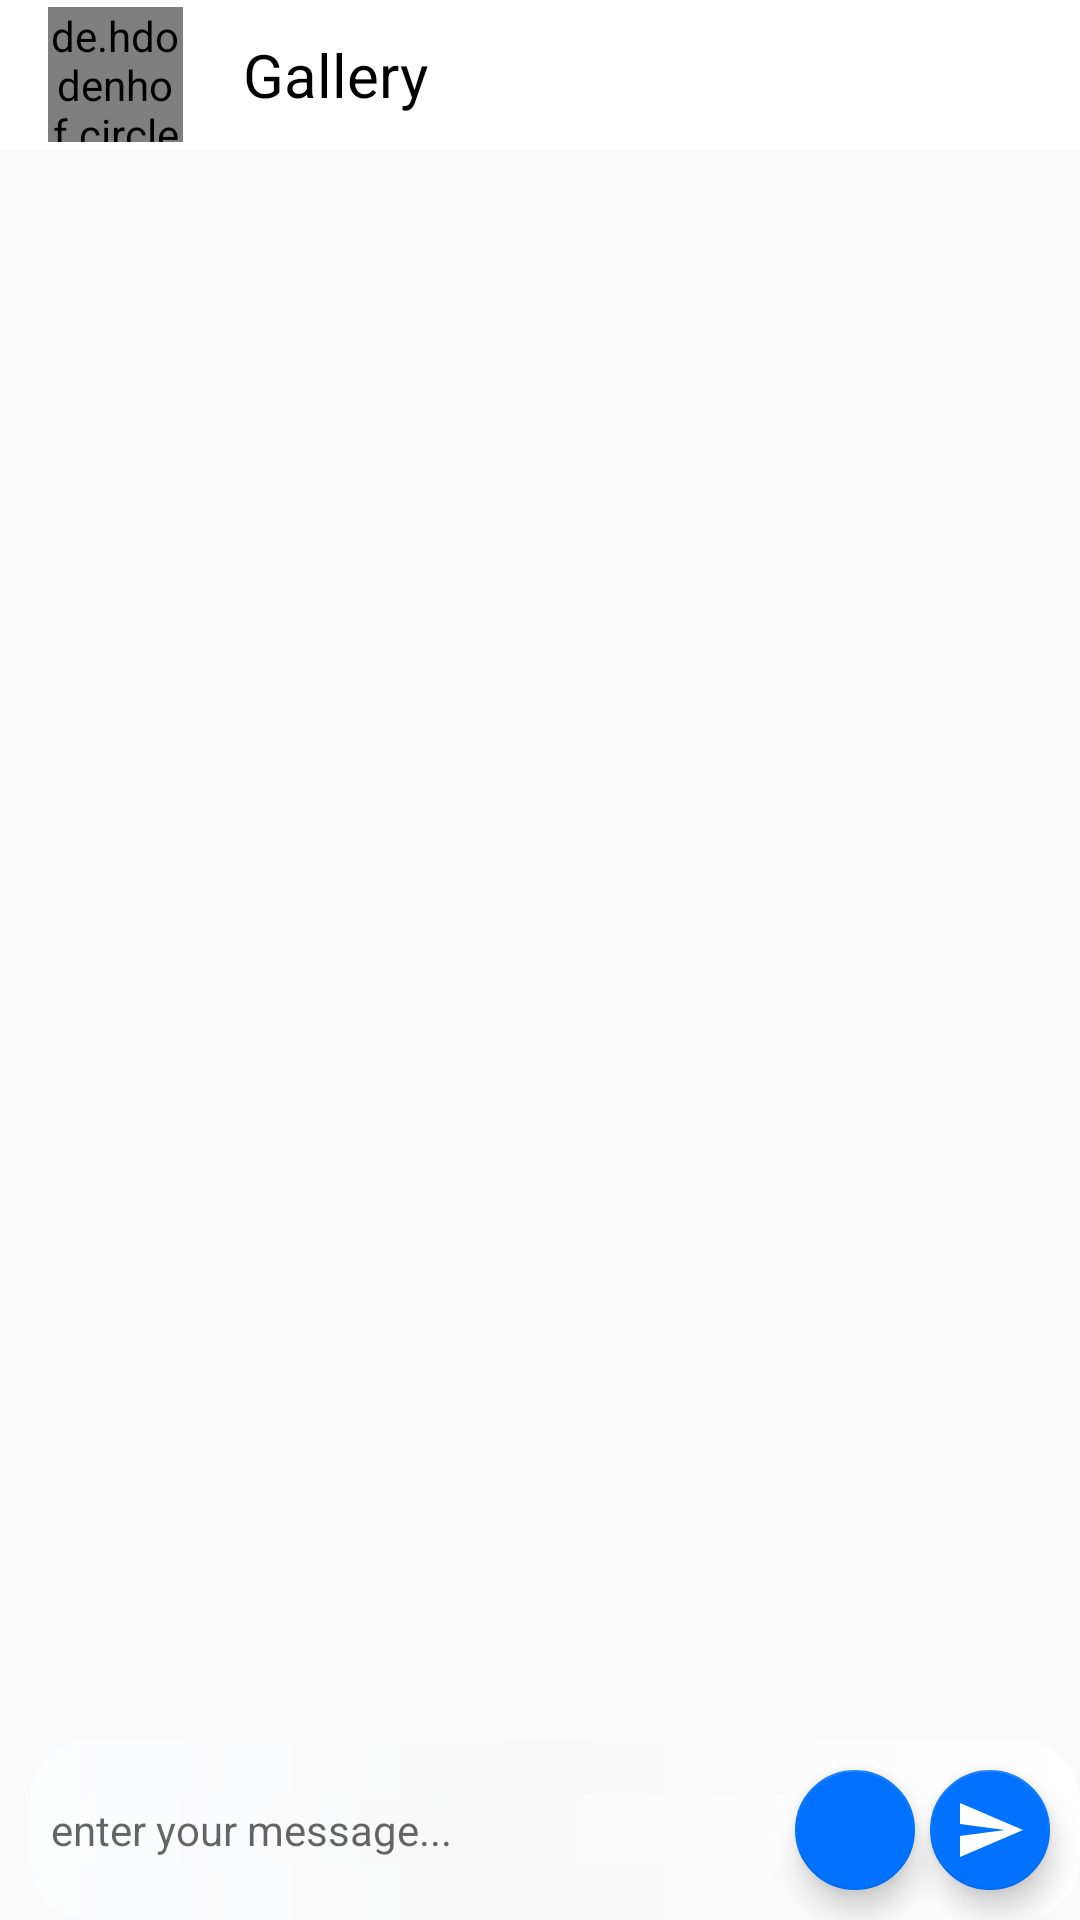

Locate icon controls on the screen. Image size 1080*1920, boxes as (x1, y1, x2, y2).
send: (930, 1770, 1050, 1890)
